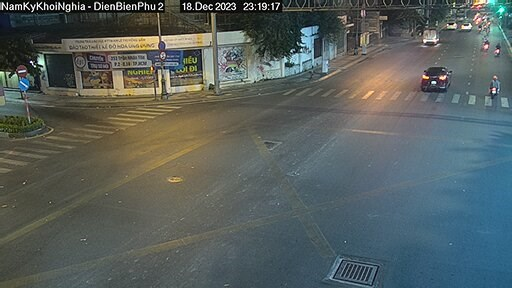car: (416, 61, 454, 94), (443, 17, 457, 29), (458, 19, 471, 30)
motorbike: (488, 75, 503, 101), (492, 43, 508, 61), (477, 38, 493, 54)
truck: (417, 23, 445, 48)
